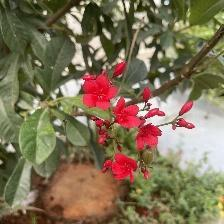jatropha: (83, 74, 118, 112), (116, 97, 146, 133), (112, 154, 143, 184)
